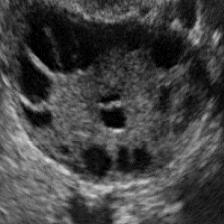pcos: (0, 0, 224, 204)
